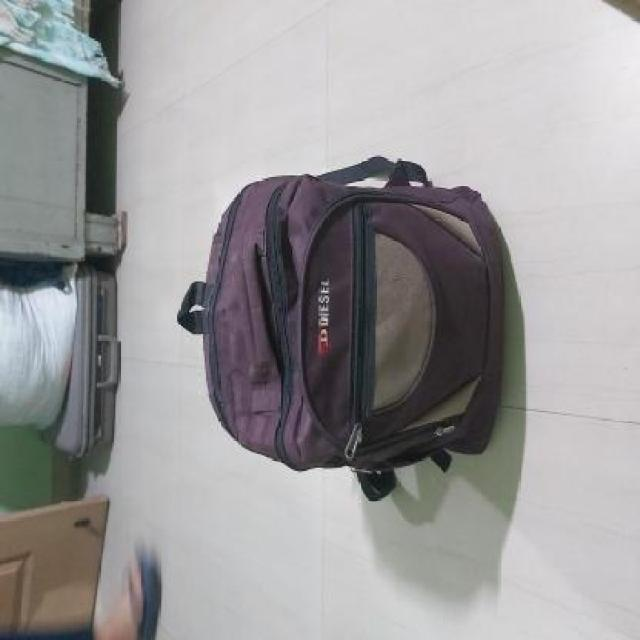backpack: (175, 151, 511, 506)
